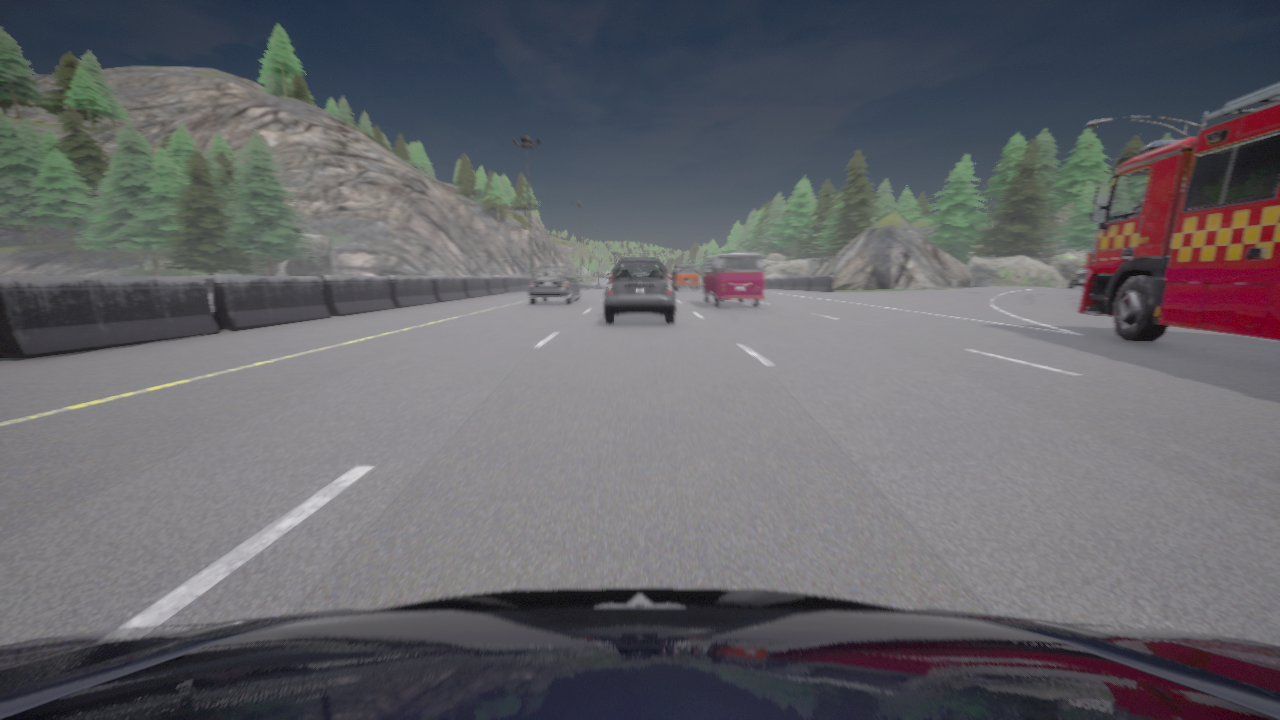cyclist: (0, 588, 1279, 719), (1079, 83, 1279, 342), (604, 258, 675, 324), (701, 253, 764, 307), (528, 266, 580, 304), (672, 264, 699, 290), (1067, 268, 1088, 289), (690, 287, 691, 289)
